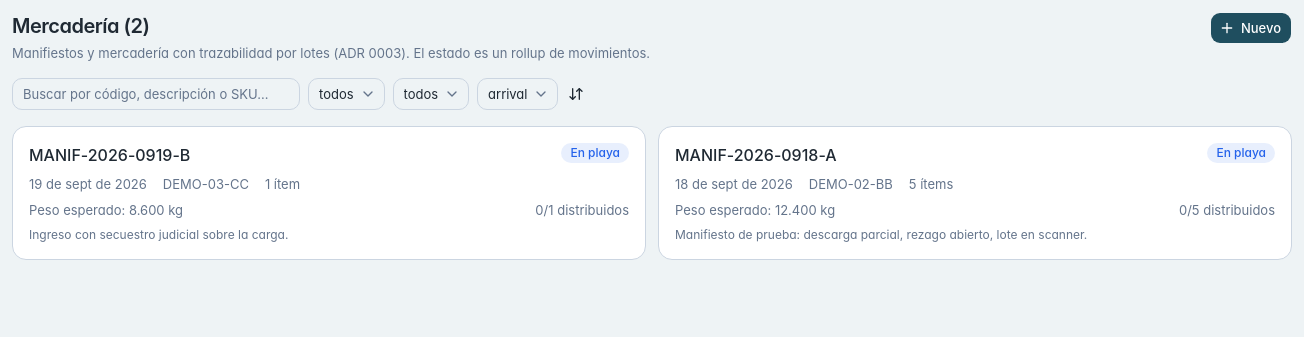
Test case: ManifestList › filters rows by the search box (debounced, client-side)
This screenshot has width=1304, height=337.
expect the heading "Mercadería (2)" is shown: met, box 12,14 -> 149,38
In the field labelled "Buscar por código, descripción o SKU…": (156, 94) 12,78 -> 300,110, type "no-existe-nada"
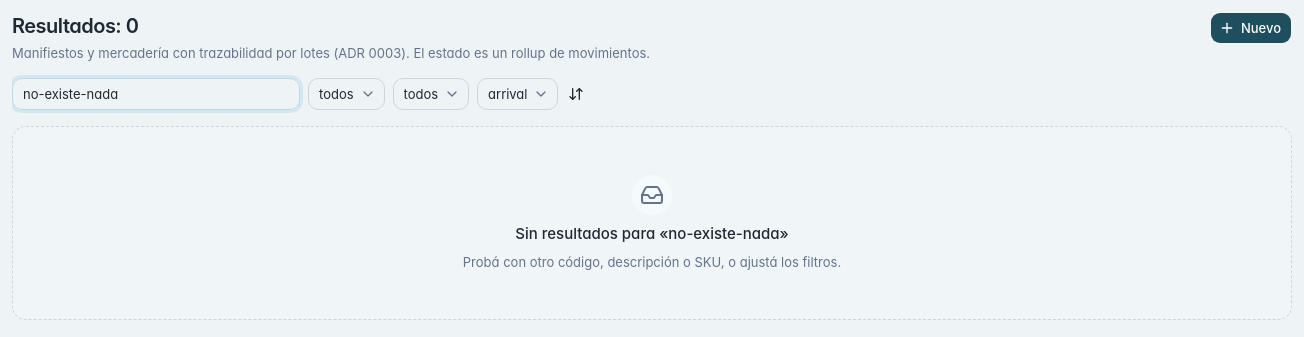
expect the heading "Resultados: 0" is shown: met, box 12,14 -> 138,38
